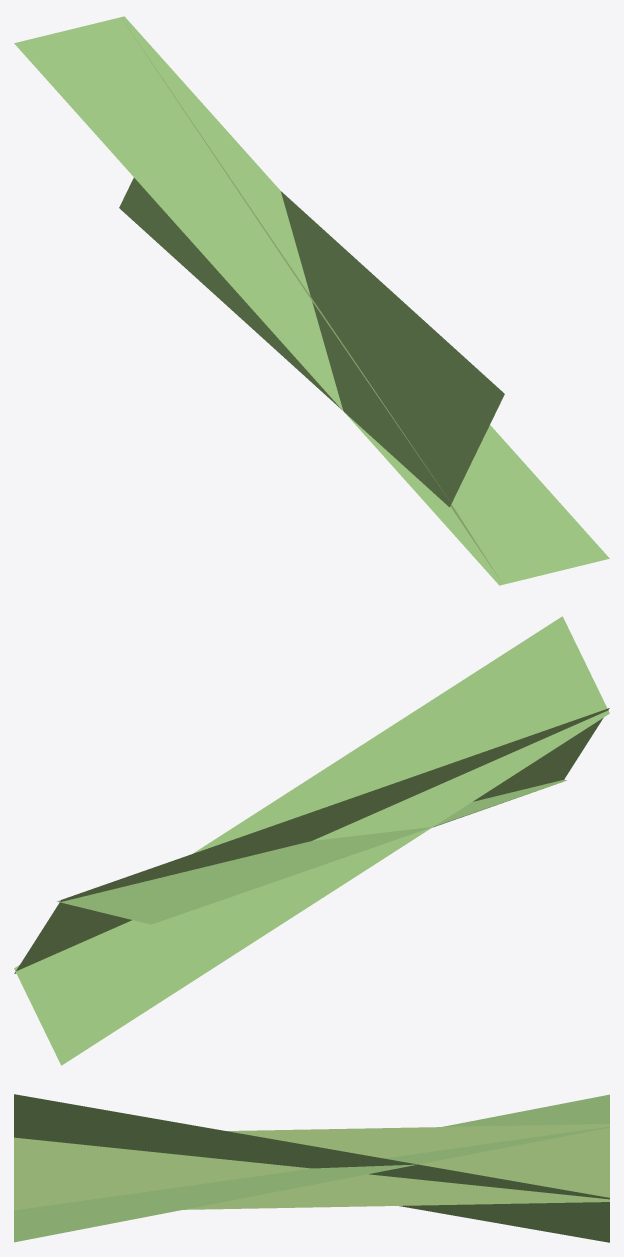
Rendered from grass_tuft.fbx.
The picture shows the model from 3 angles, top to bottom: view 1: azimuth 30°, elevation 25°; view 2: azimuth 150°, elevation 25°; view 3: azimuth 270°, elevation 25°; orthographic projection. The views are drawn at different scales.
Parts seen in each view (by area): view 1: Blade0, Blade2, Blade1; view 2: Blade2, Blade1, Blade0; view 3: Blade1, Blade2, Blade0.
Part boxes in pixels (x1=…): Blade0: x1=14, y1=16, x2=609, y2=585; Blade2: x1=119, y1=178, x2=504, y2=507; Blade1: x1=126, y1=25, x2=500, y2=580; Blade2: x1=14, y1=616, x2=609, y2=1065; Blade1: x1=14, y1=708, x2=609, y2=973; Blade0: x1=57, y1=779, x2=566, y2=924; Blade1: x1=14, y1=1124, x2=609, y2=1210; Blade2: x1=14, y1=1094, x2=609, y2=1242; Blade0: x1=14, y1=1094, x2=609, y2=1242.
Bounding box in the file's own units: 17.1 × 15.07 × 68.47.
